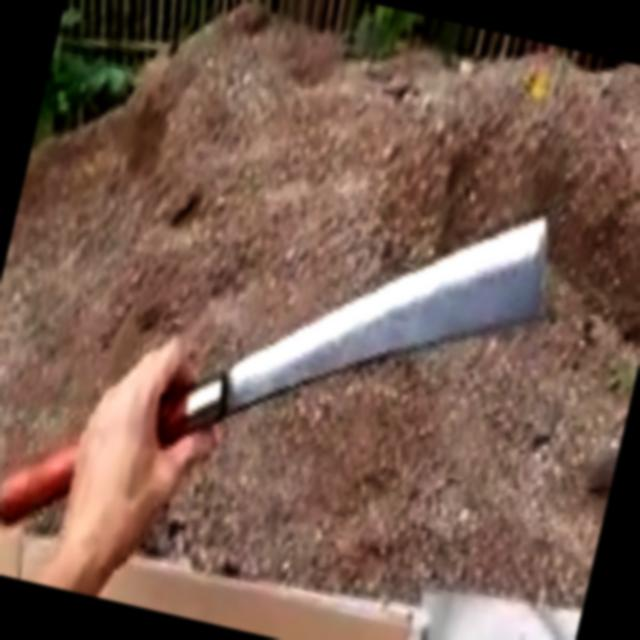eto: (2, 216, 545, 525)
